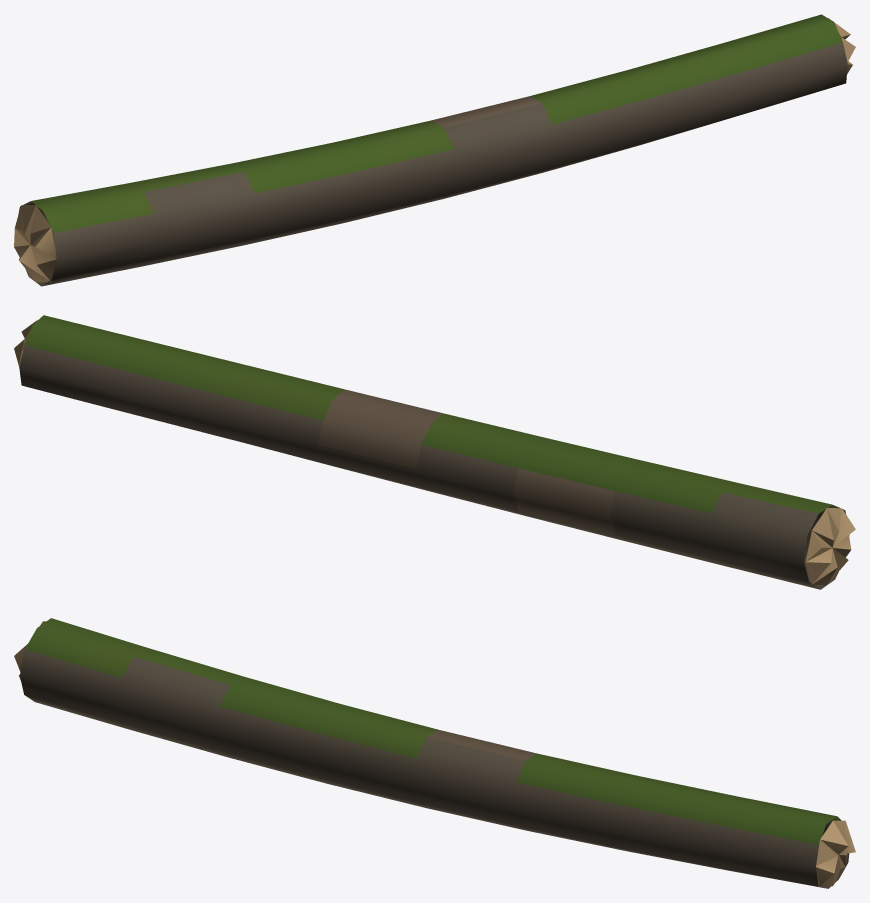
Rendered from fallen_log_old.glb.
3 views of the same model, one above another, from view 1: azimuth 30°, elevation 25°; view 2: azimuth 150°, elevation 25°; view 3: azimuth 330°, elevation 25° (orthographic).
Parts seen in each view (by area): view 1: fallen_log_old_LOD0; view 2: fallen_log_old_LOD0; view 3: fallen_log_old_LOD0.
Part boxes in pixels (x1,y1,x2,y2): fallen_log_old_LOD0: (14,14,855,286); fallen_log_old_LOD0: (14,315,855,589); fallen_log_old_LOD0: (14,618,855,888).
Size of what is drawn, in the model's own units: 4.4 by 0.4165 by 0.4267.
